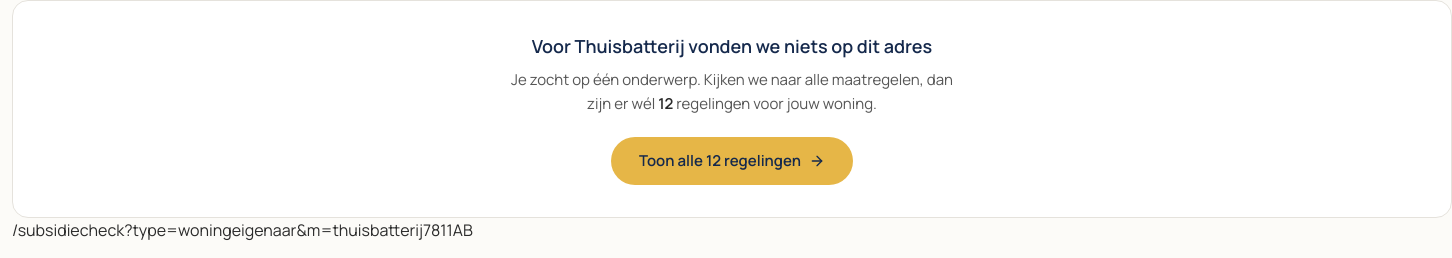
Test case: nul regelingen na eigen filtering › noemt hoeveel er wél zijn en verbreedt met één klik, met behoud van adres en situatie
Expected: the heading "Voor Thuisbatterij vonden we niets op dit adres" is shown, x1=532 y1=34 x2=932 y2=58
What coordinates should you click on to do the following:
click the button "Toon alle 12 regelingen"
I would click on:
 (732, 161)
Its box is x1=611 y1=137 x2=853 y2=185.
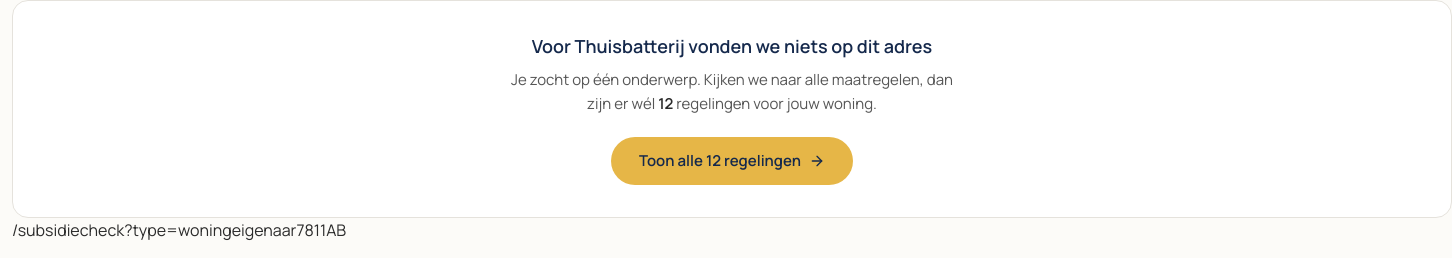
Expected: the text with test id "url" shows "type=woningeigenaar", x1=12 y1=219 x2=296 y2=241
Result: the text with test id "url" no longer shows "m="
